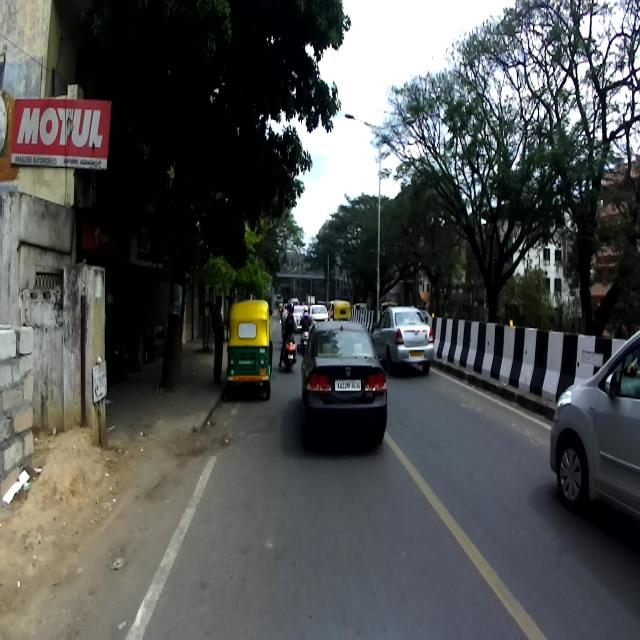autorickshaw: (225, 299, 272, 397)
car: (548, 324, 640, 521), (296, 319, 388, 449), (369, 306, 434, 373)
